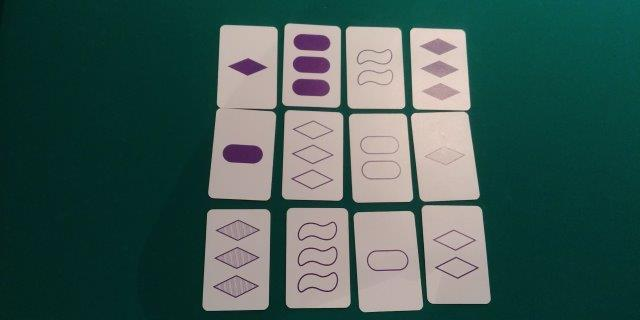1EP: (359, 216, 413, 306)
1FD: (222, 29, 271, 103)
1FP: (218, 112, 266, 197)
1HD: (420, 117, 468, 197)
2ED: (429, 207, 479, 301)
2EP: (355, 119, 404, 198)
2EW: (350, 28, 399, 106)
3ED: (287, 112, 338, 198)
3EW: (290, 213, 344, 303)
3FD: (416, 30, 461, 106)
3FP: (287, 27, 335, 103)
3HD: (209, 215, 265, 306)
